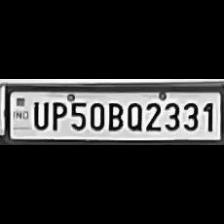0: (87, 99, 105, 130)
1: (200, 100, 216, 132)
2: (143, 100, 161, 132)
3: (180, 98, 200, 132), (162, 100, 180, 132)
5: (66, 99, 86, 131)
B: (105, 101, 123, 131)
P: (46, 99, 66, 131)
Q: (124, 101, 142, 131)
U: (29, 99, 48, 131)
